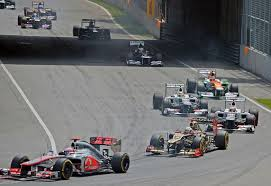FormulaOneCar: (1, 135, 133, 180), (143, 117, 232, 161), (205, 93, 261, 134), (148, 80, 210, 117), (183, 64, 244, 98), (115, 38, 168, 70), (68, 16, 115, 44), (15, 8, 54, 32)
